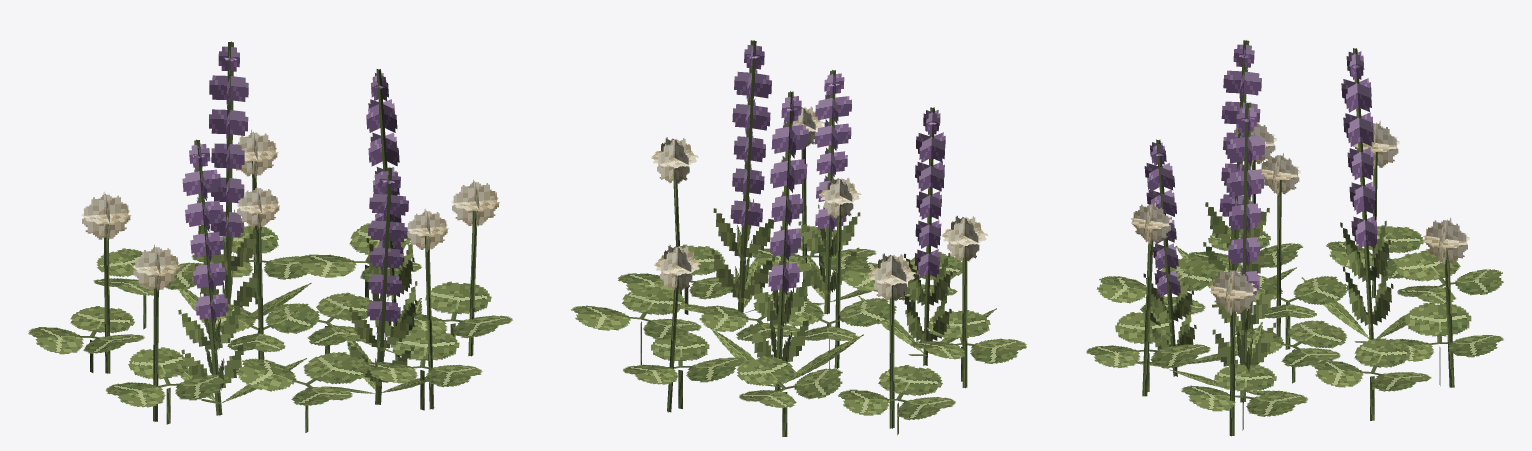
File: sich_wildflowers_clover.glb
The picture shows the model from 3 angles, left to right: view 1: azimuth 30°, elevation 25°; view 2: azimuth 150°, elevation 25°; view 3: azimuth 270°, elevation 25°; orthographic projection. The views are drawn at different scales.
Parts seen in each view (by area): view 1: Wildflowers_Clover_Mesh; view 2: Wildflowers_Clover_Mesh; view 3: Wildflowers_Clover_Mesh.
Part boxes in pixels (x1,y1,x2,y2): Wildflowers_Clover_Mesh: [28, 41, 512, 432]; Wildflowers_Clover_Mesh: [571, 40, 1026, 436]; Wildflowers_Clover_Mesh: [1086, 40, 1503, 436].
Size of the model in its own units: 0.5275 by 0.3837 by 0.4959.
1 material, 1 textured.
